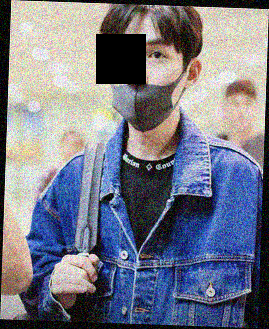mask_weared_incorrect: (105, 35, 186, 133)
without_mask: (226, 97, 255, 131)
